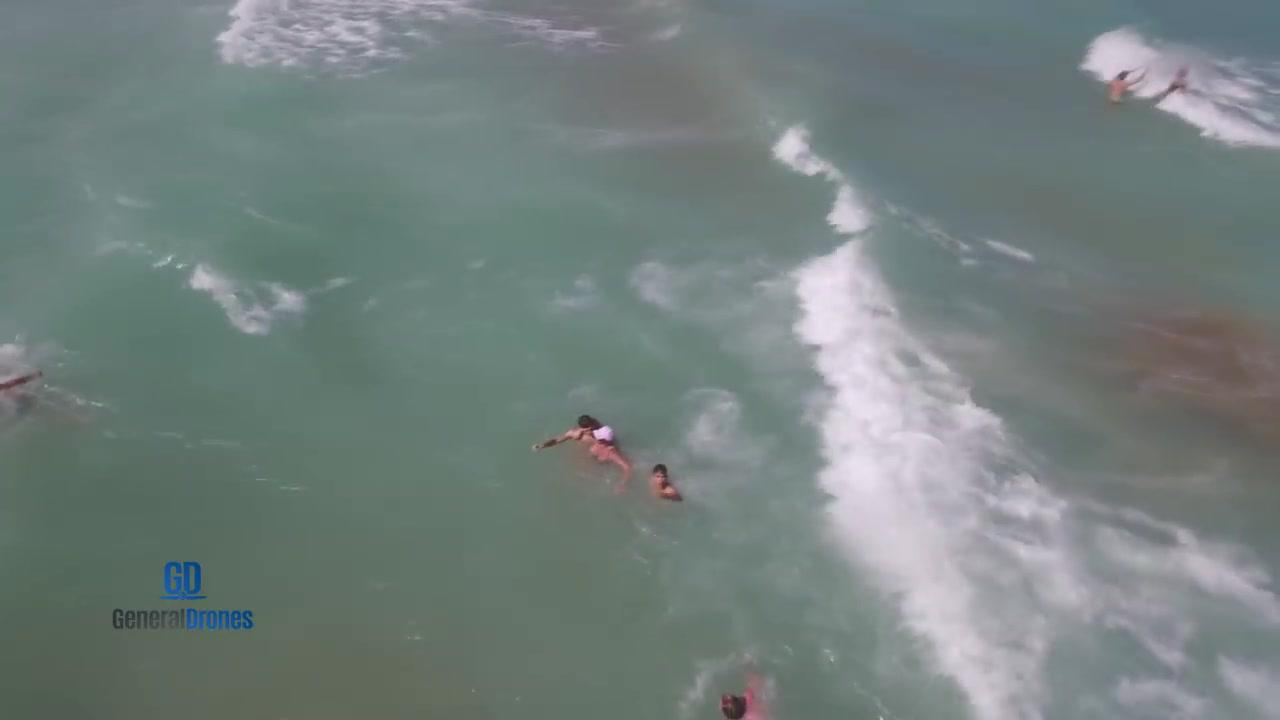human: (525, 406, 636, 498), (698, 668, 774, 720), (646, 453, 694, 511)
